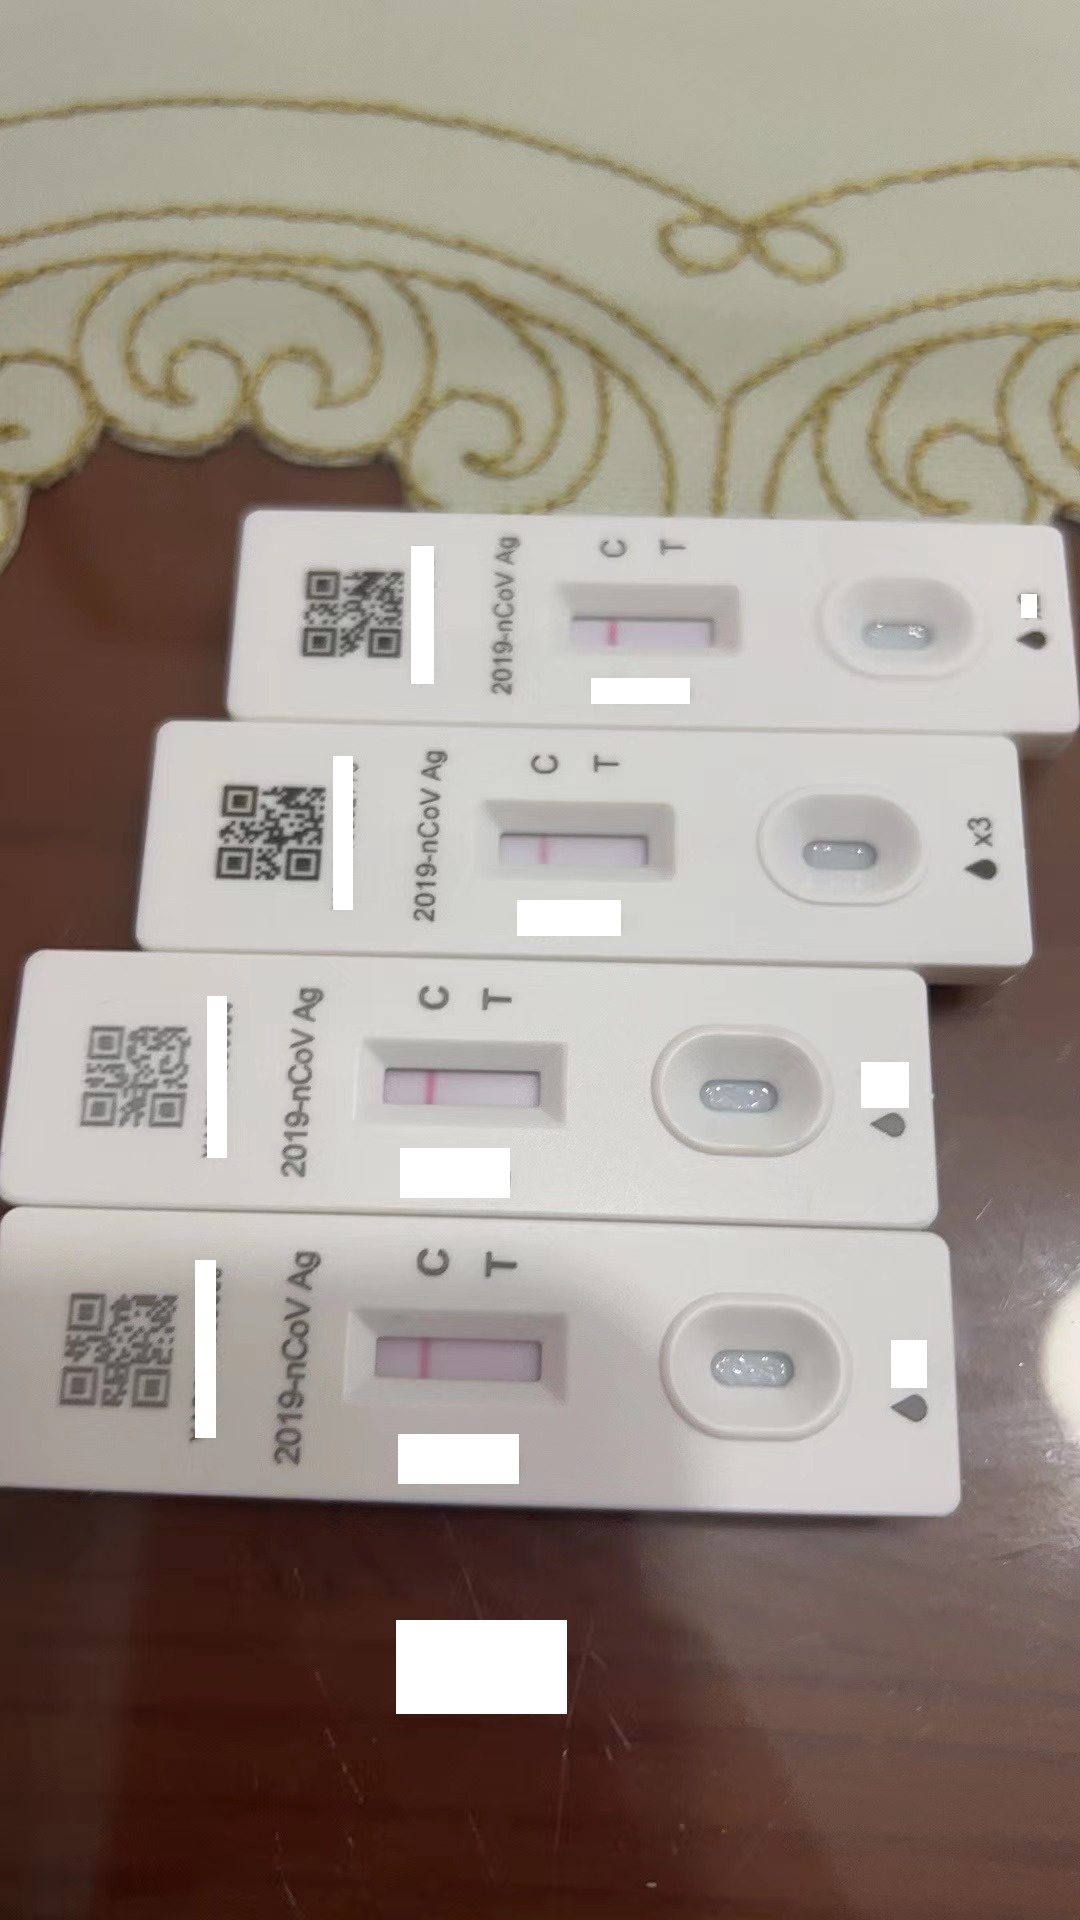negative: (342, 1304, 582, 1400), (359, 1034, 576, 1124), (476, 800, 680, 884), (546, 582, 750, 657)
